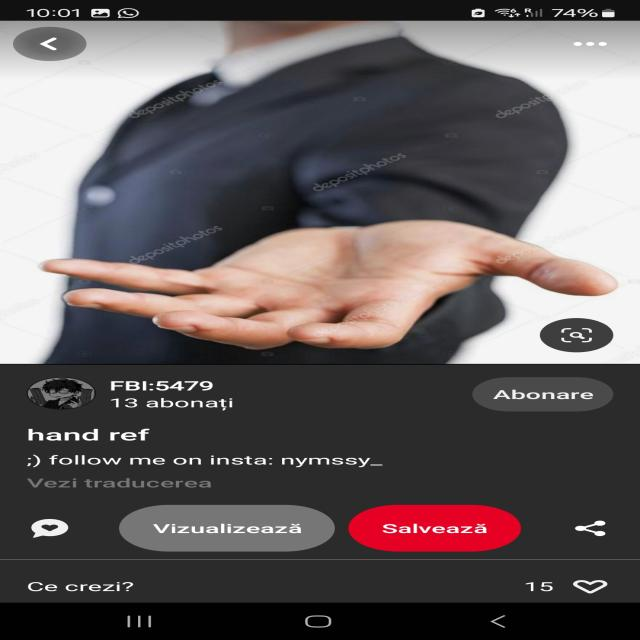hands: (32, 152, 624, 363)
